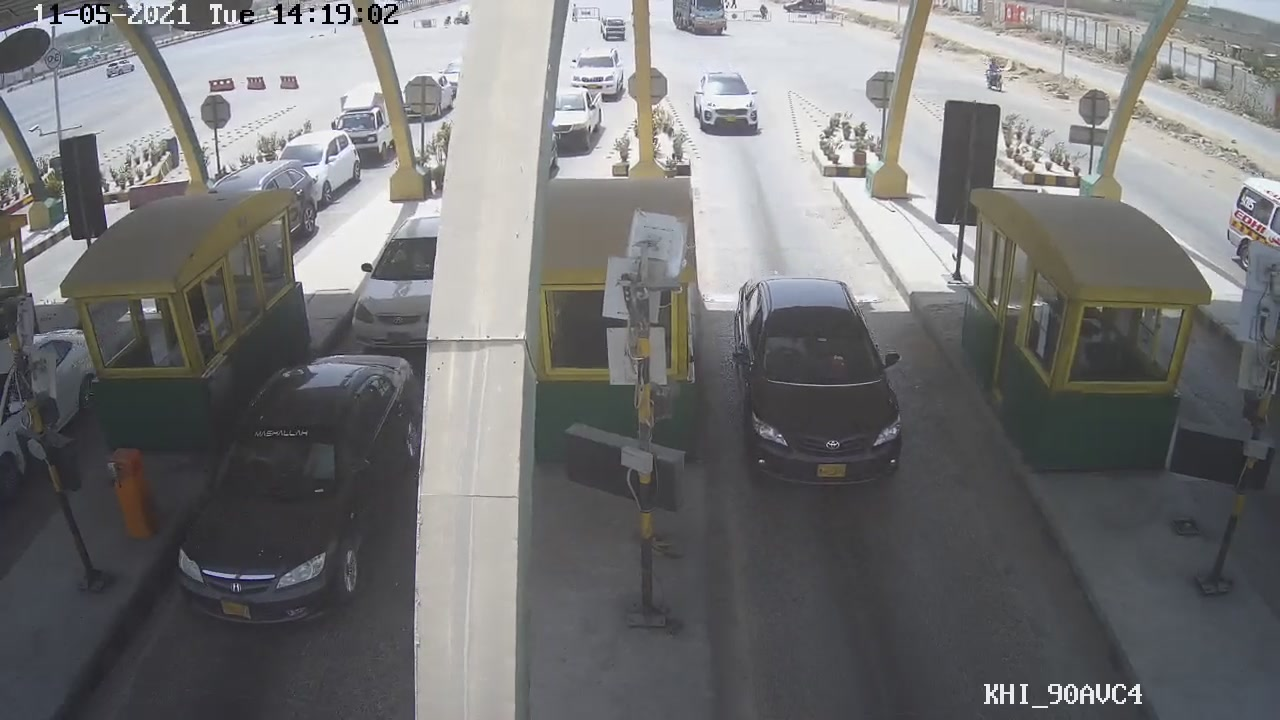F1: (728, 269, 909, 494)
